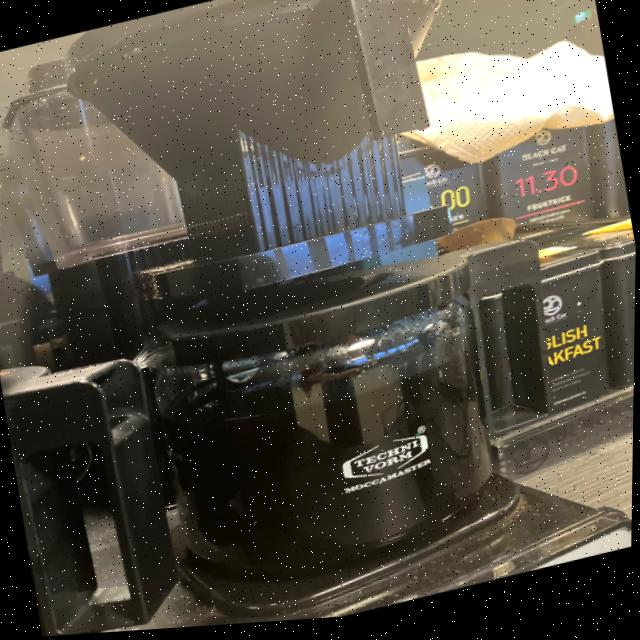coffee: (94, 223, 556, 635), (0, 322, 151, 640)
